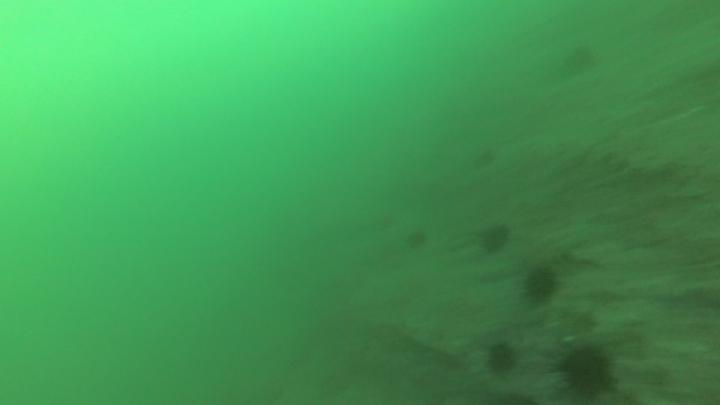echinus: (549, 337, 621, 405), (521, 264, 564, 304), (474, 221, 515, 259), (487, 338, 523, 379)
